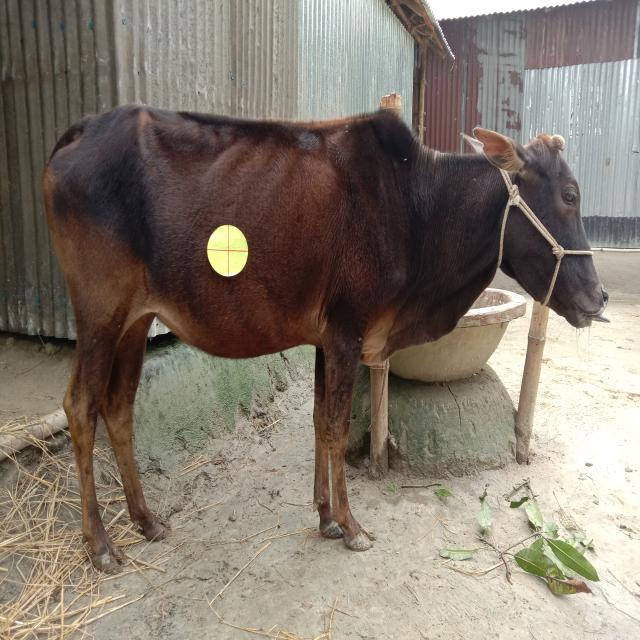badan_sapi: (49, 108, 408, 362)
sapi: (34, 103, 623, 575)
